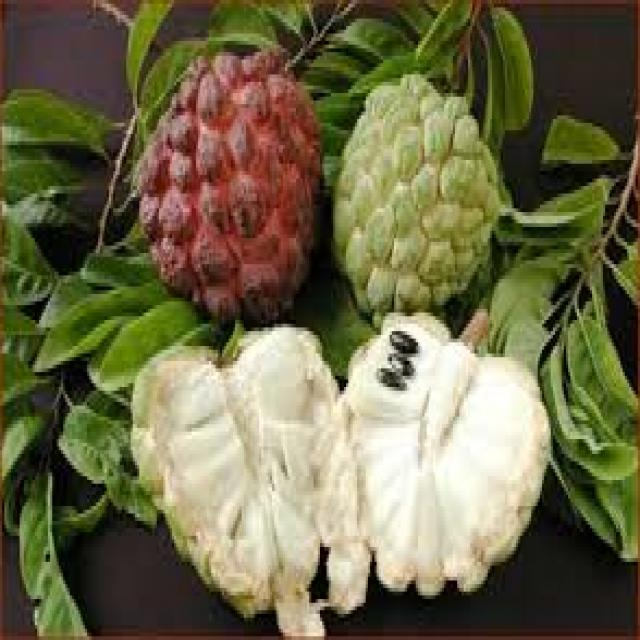organic waste: (126, 324, 368, 636), (337, 301, 551, 599), (133, 41, 320, 316), (331, 56, 501, 316)
